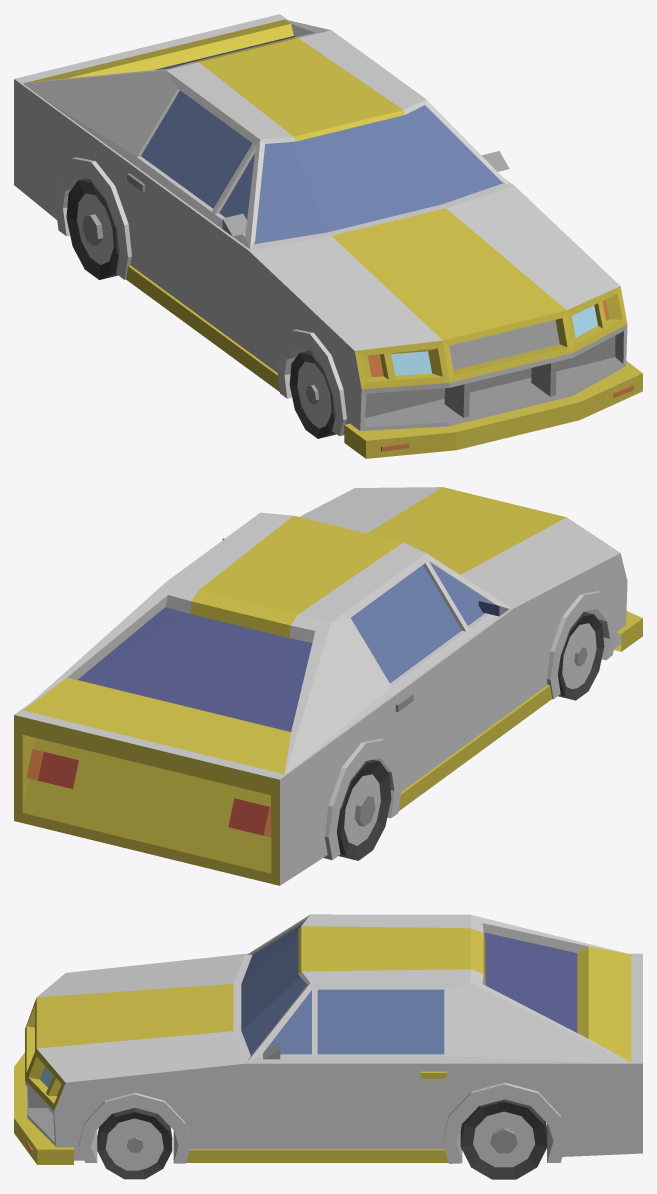
File: transport_sport_003.glb
The picture shows the model from 3 angles, top to bottom: view 1: azimuth 30°, elevation 25°; view 2: azimuth 150°, elevation 25°; view 3: azimuth 270°, elevation 25°; orthographic projection. The views are drawn at different scales.
Visible parts, largest first — view 1: transport_sport_003; view 2: transport_sport_003; view 3: transport_sport_003.
Part boxes in pixels (x1,y1,x2,y2): transport_sport_003: [14, 14, 642, 458]; transport_sport_003: [14, 487, 642, 885]; transport_sport_003: [14, 914, 642, 1179].
Size of the model in its own units: 1.63 by 1.16 by 3.78.
Materials: 1 (1 with a texture image).
